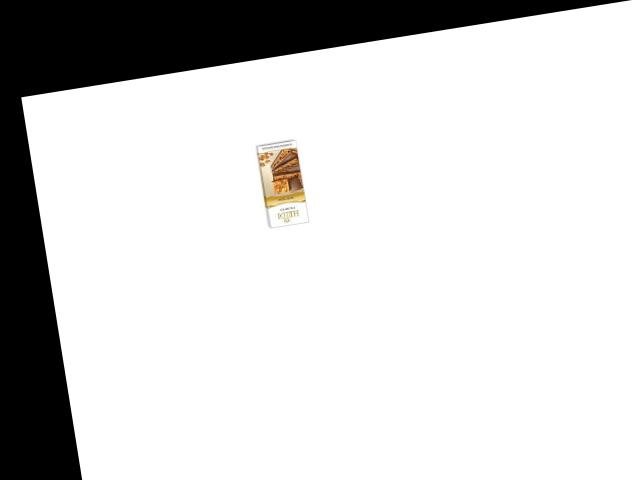chocolate: (239, 134, 318, 235)
